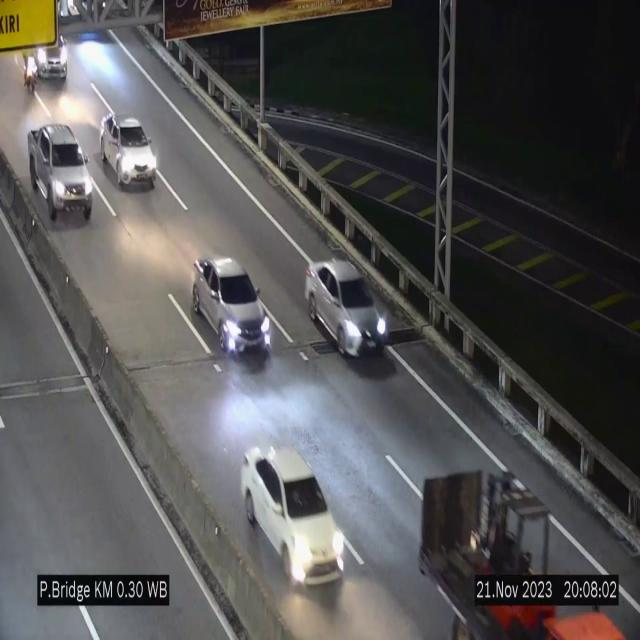Car: (242, 447, 344, 585), (304, 260, 388, 356), (192, 258, 271, 356), (28, 124, 93, 222), (100, 114, 158, 188), (26, 22, 73, 76)
Motorcycle: (19, 47, 41, 98)
Truck: (416, 441, 624, 640)
